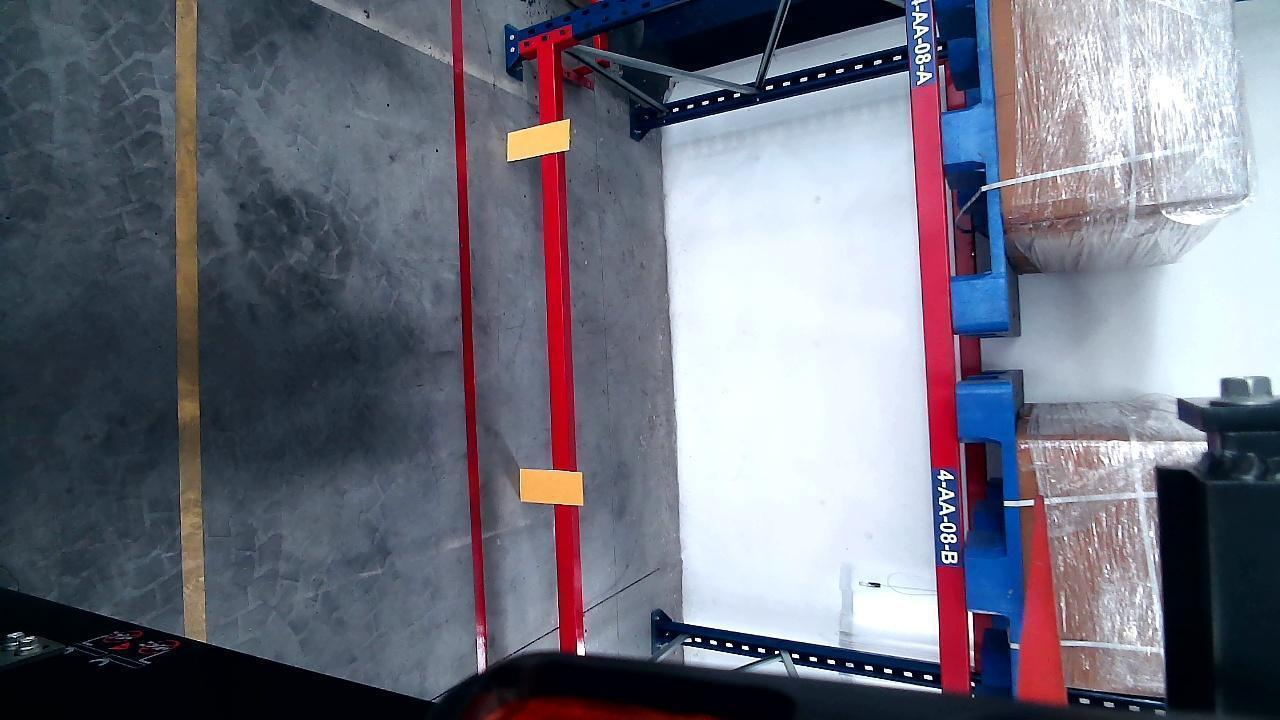red_line: (453, 0, 489, 674)
yellow_line: (172, 0, 205, 645)
